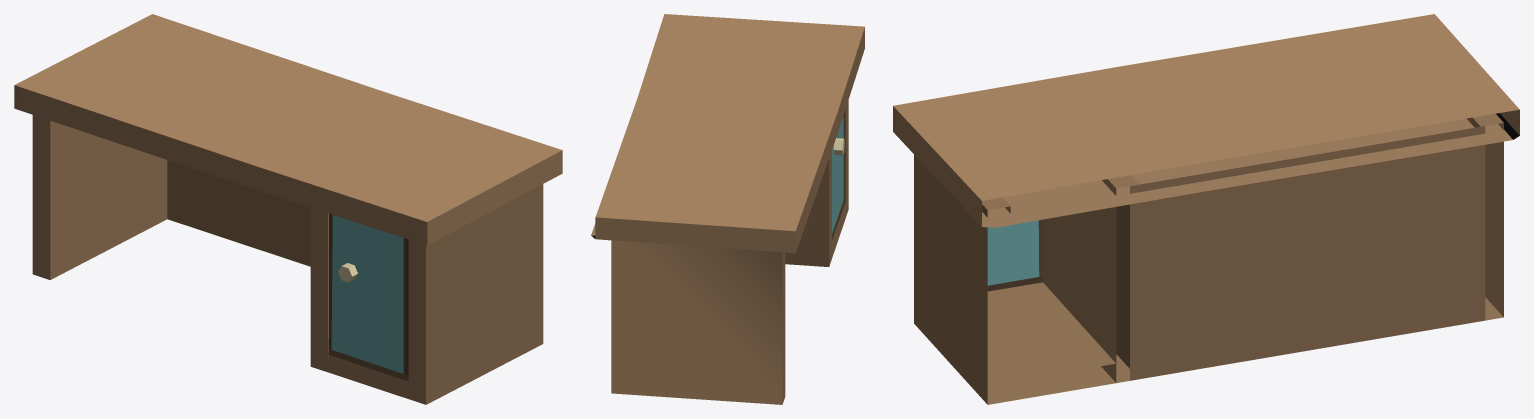
Rendered from MSH_QuestObject_table_06.fbx.
The picture shows the model from 3 angles, left to right: view 1: azimuth 30°, elevation 25°; view 2: azimuth 150°, elevation 25°; view 3: azimuth 270°, elevation 25°; orthographic projection. The views are drawn at different scales.
Visible parts, largest first — view 1: MSH_QuestObject_table_06; view 2: MSH_QuestObject_table_06; view 3: MSH_QuestObject_table_06.
Boxes of the visible parts, left/top/right/bottom form: MSH_QuestObject_table_06: left=14, top=14, right=562, bottom=404; MSH_QuestObject_table_06: left=591, top=14, right=864, bottom=404; MSH_QuestObject_table_06: left=893, top=14, right=1519, bottom=404.
Size of the model in its own units: 2.75 by 1.46 by 3.89.
